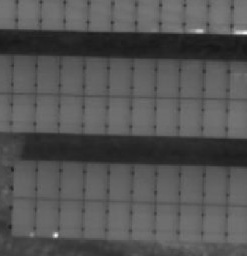solar: (10, 53, 39, 94), (34, 54, 63, 95), (58, 54, 87, 95), (82, 55, 111, 96), (106, 56, 135, 97), (129, 57, 158, 98), (154, 57, 183, 98), (178, 58, 207, 99), (202, 59, 231, 100), (8, 91, 37, 132), (32, 91, 61, 132), (57, 93, 86, 134), (80, 94, 109, 135), (104, 95, 133, 136), (129, 96, 158, 137), (152, 96, 181, 137), (176, 97, 205, 138), (201, 97, 230, 138), (10, 158, 39, 199), (34, 158, 63, 199), (57, 160, 86, 201), (81, 161, 110, 202), (106, 162, 135, 203), (130, 162, 159, 203), (153, 163, 182, 204), (177, 164, 206, 205), (202, 164, 231, 205), (9, 196, 38, 237), (33, 197, 62, 238), (56, 199, 85, 240), (80, 199, 109, 240), (105, 199, 134, 240), (129, 200, 158, 241), (153, 201, 182, 242), (176, 201, 205, 242), (200, 202, 229, 243)
